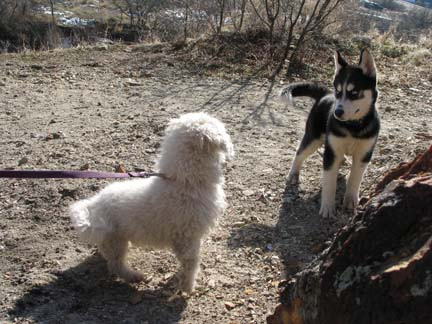dog: (68, 112, 236, 293), (279, 46, 382, 220)
